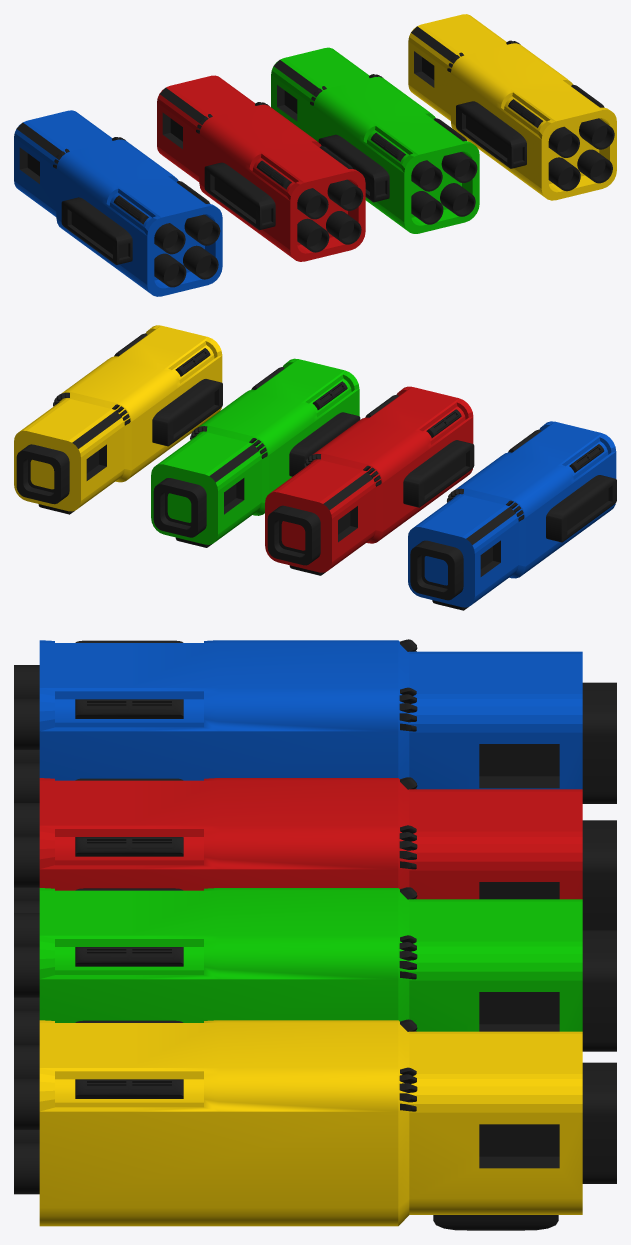
Rendered from SuperWeapon.fbx.
3 views of the same model, one above another, from view 1: azimuth 30°, elevation 25°; view 2: azimuth 150°, elevation 25°; view 3: azimuth 270°, elevation 25° (orthographic). The views are drawn at different scales.
Visible parts, largest first — view 1: SuperWeapon2Red, SuperWeapon2Blue, SuperWeapon2Yellow, SuperWeapon2Green; view 2: SuperWeapon2Red, SuperWeapon2Blue, SuperWeapon2Yellow, SuperWeapon2Green; view 3: SuperWeapon2Yellow, SuperWeapon2Blue, SuperWeapon2Green, SuperWeapon2Red.
Boxes of the visible parts, bbox=[...] form: SuperWeapon2Red: bbox=[157, 75, 365, 261]; SuperWeapon2Blue: bbox=[14, 110, 222, 296]; SuperWeapon2Yellow: bbox=[408, 14, 616, 200]; SuperWeapon2Green: bbox=[271, 47, 479, 233]; SuperWeapon2Red: bbox=[265, 386, 474, 575]; SuperWeapon2Blue: bbox=[408, 421, 616, 610]; SuperWeapon2Yellow: bbox=[14, 325, 222, 514]; SuperWeapon2Green: bbox=[151, 358, 360, 547]; SuperWeapon2Yellow: bbox=[14, 1019, 616, 1230]; SuperWeapon2Blue: bbox=[14, 639, 616, 803]; SuperWeapon2Green: bbox=[14, 887, 616, 1051]; SuperWeapon2Red: bbox=[14, 777, 616, 930].
Size of the model in its own units: 774 by 136 by 422.
